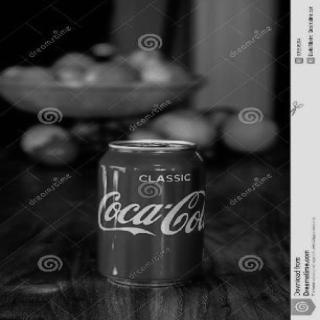alumunium_can: (96, 140, 208, 286)
